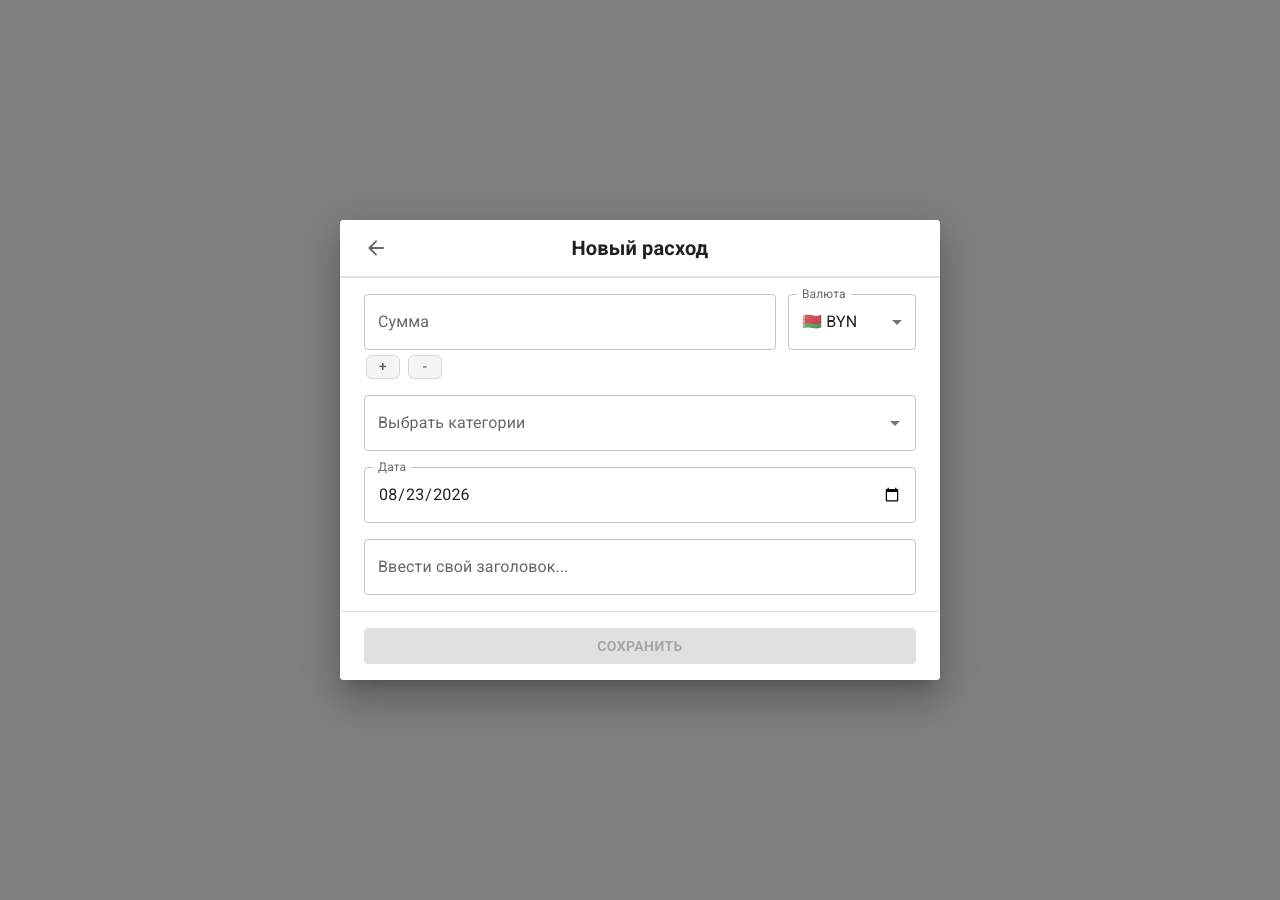
Scenario: ExpenseFormModal › keeps backend currency order and shows currency icon in menu
What coordinates should you click on to do the following:
click the dropdown named "Валюта"
I would click on:
 (830, 322)
Its box is [802,312,857,331].
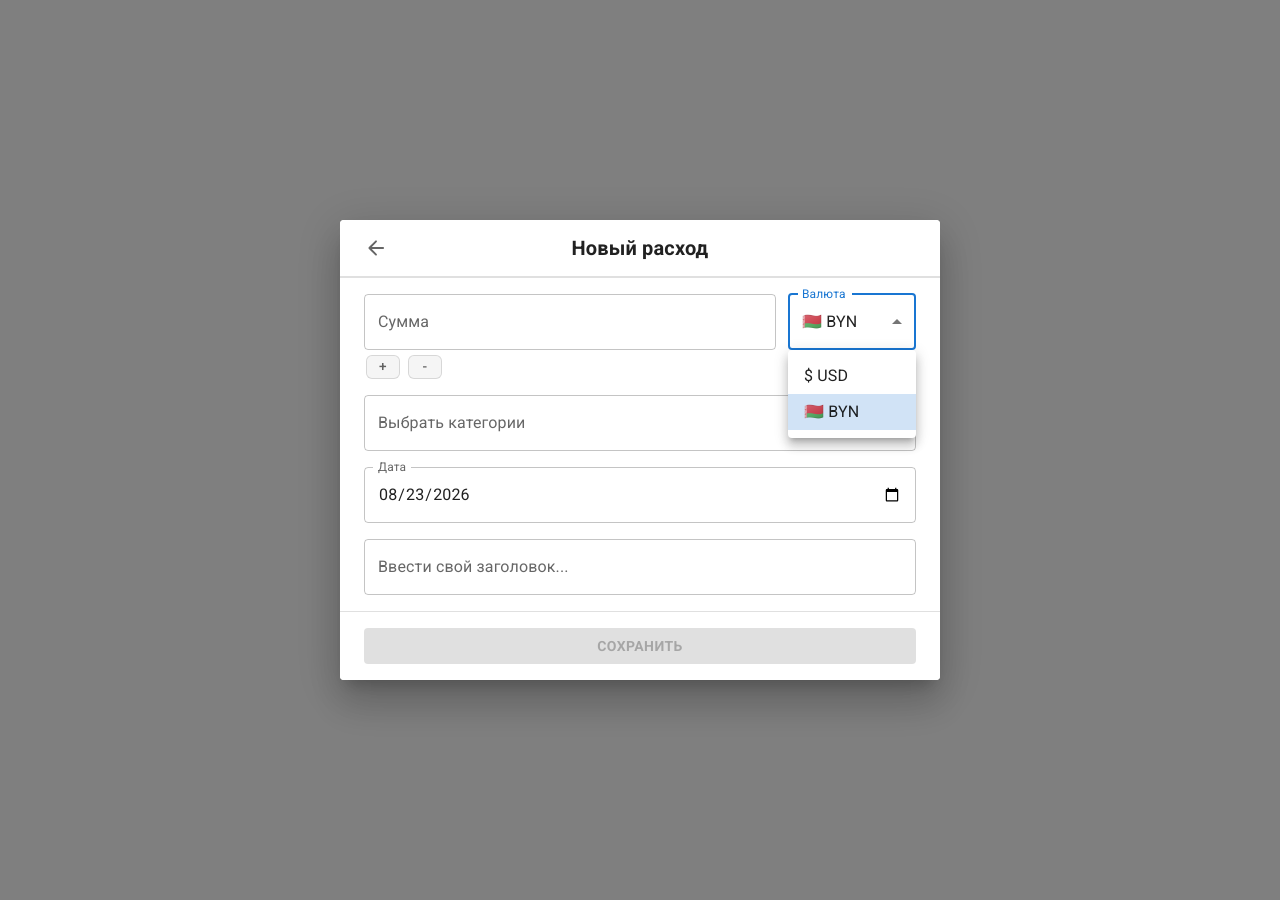
Now the options read "$ USD", "🇧🇾 BYN", in this order, box [804,366,848,385]; [788,394,916,430]
